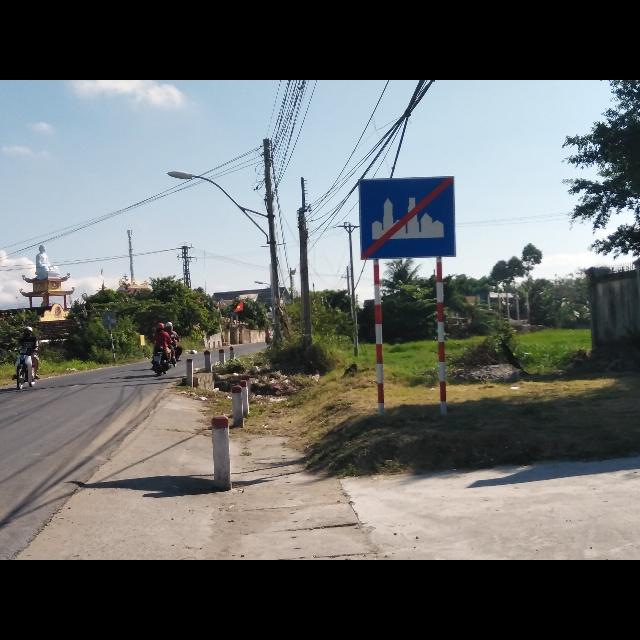Hết khu đông dân cư: (358, 177, 456, 257)
